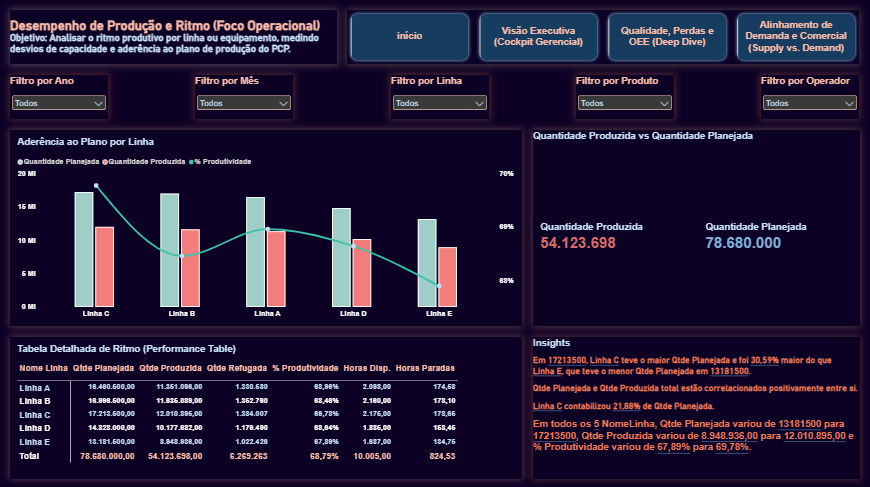

The page's visual inventory and layout, read from the dashboard file:
{"tool":"powerbi","page":{"name":"Desempenho de Produção e Ritmo (Foco Operacional)","canvas":[1920,1080],"ordinal":2},"visuals":[{"type":"textbox","box":[24,24,720,120],"z":0},{"type":"pageNavigator","title":"Navegação","box":[768,24,1128,120],"z":1000},{"type":"slicer","title":"Filtro por Ano","fields":{"Values":["dCalendario.Ano"]},"box":[24,168,216,96],"z":1001},{"type":"slicer","title":"Filtro por Mês","fields":{"Values":["dCalendario.Mês"]},"box":[432,168,216,96],"z":1002},{"type":"slicer","title":"Filtro por Linha","fields":{"Values":["dLinhaProducao.NomeLinha"]},"box":[864,168,216,96],"z":1003},{"type":"slicer","title":"Filtro por Produto","fields":{"Values":["dProduto.NomeProduto"]},"box":[1272,168,216,96],"z":1004},{"type":"slicer","title":"Filtro por Operador","fields":{"Values":["dOperador.NomeOperador"]},"box":[1680,168,216,96],"z":1005},{"type":"lineClusteredColumnComboChart","title":"Aderência ao Plano por Linha","fields":{"Category":["dLinhaProducao.NomeLinha"],"Y":["_Medidas.Qtde Planejada","_Medidas.Qtde Produzida"],"Y2":["_Medidas.% Produtividade"]},"box":[24,288,1128,432],"z":1006},{"type":"pivotTable","title":"Tabela Detalhada de Ritmo (Performance Table)","fields":{"Rows":["dLinhaProducao.NomeLinha"],"Values":["_Medidas.Qtde Planejada","_Medidas.Qtde Produzida","_Medidas.Qtde Refugada","_Medidas.% Produtividade","_Medidas.Horas Disp.","_Medidas.Horas Paradas"]},"box":[24,744,1128,312],"z":1007},{"type":"cardVisual","title":"Quantidade Produzida vs Quantidade Planejada","fields":{"Data":["_Medidas.Qtde Produzida","_Medidas.Qtde Planejada"]},"box":[1176,288,720,432],"z":1008},{"type":"textbox","title":"Insights","box":[1176,744,720,312],"z":1009}]}

Visuals, with their boxes in screenshot pixels (x1, y1, x2, y2), scaled from the page's 1920x1080 canvas onto the 870x487 screenshot:
textbox: <box>11,11,337,65</box>
"Navegação" pageNavigator: <box>348,11,859,65</box>
"Filtro por Ano" slicer: <box>11,76,109,119</box>
"Filtro por Mês" slicer: <box>196,76,294,119</box>
"Filtro por Linha" slicer: <box>392,76,489,119</box>
"Filtro por Produto" slicer: <box>576,76,674,119</box>
"Filtro por Operador" slicer: <box>761,76,859,119</box>
"Aderência ao Plano por Linha" lineClusteredColumnComboChart: <box>11,130,522,325</box>
"Tabela Detalhada de Ritmo (Performance Table)" pivotTable: <box>11,335,522,476</box>
"Quantidade Produzida vs Quantidade Planejada" cardVisual: <box>533,130,859,325</box>
"Insights" textbox: <box>533,335,859,476</box>
